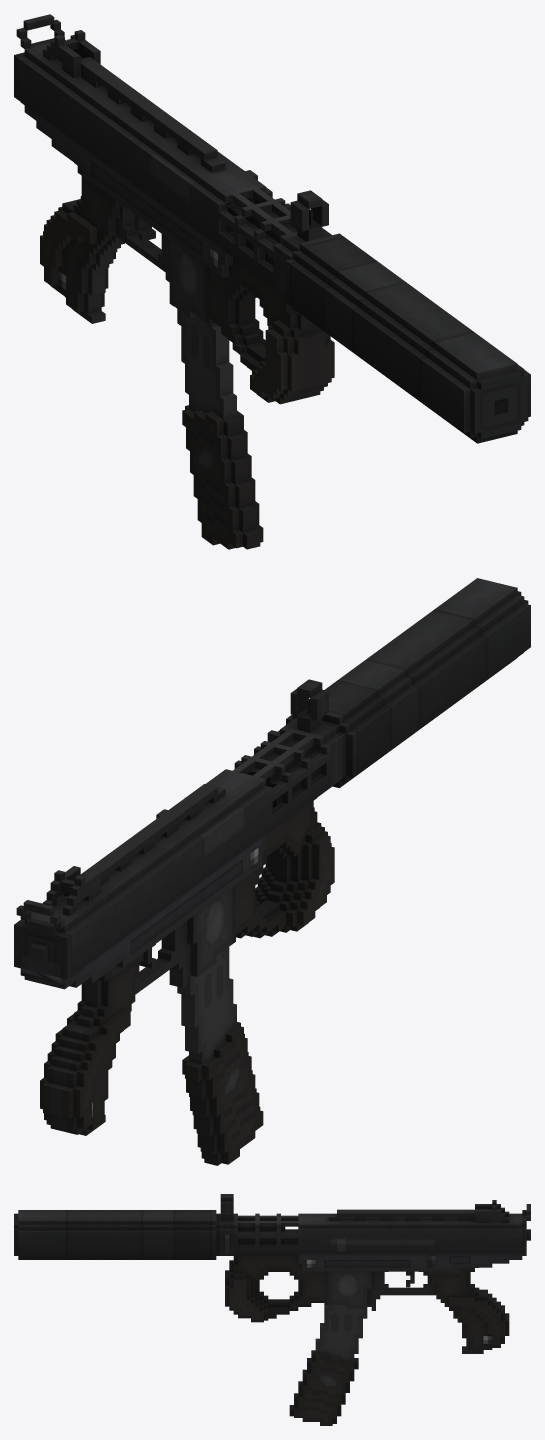
The model's file is RD_AGRAM2000.glb.
3 renders of one model, top to bottom at view 1: azimuth 30°, elevation 25°; view 2: azimuth 150°, elevation 25°; view 3: azimuth 270°, elevation 25°, orthographic. The views are drawn at different scales.
Visible parts, largest first — view 1: AGRAM2000, AGRAM2000_SILENCER, AGRAM2000_CLIP; view 2: AGRAM2000, AGRAM2000_SILENCER, AGRAM2000_CLIP; view 3: AGRAM2000, AGRAM2000_SILENCER, AGRAM2000_CLIP.
Part boxes in pixels (box(x1,y1,x2,y2)): AGRAM2000: box(14, 14, 334, 404); AGRAM2000_SILENCER: box(245, 211, 530, 443); AGRAM2000_CLIP: box(177, 309, 263, 549); AGRAM2000: box(14, 679, 342, 1135); AGRAM2000_SILENCER: box(246, 578, 530, 808); AGRAM2000_CLIP: box(177, 947, 263, 1165); AGRAM2000: box(220, 1194, 530, 1353); AGRAM2000_SILENCER: box(14, 1210, 285, 1259); AGRAM2000_CLIP: box(289, 1305, 367, 1425).
Bounding box in the file's own units: 0.1181 × 0.5709 × 1.18.
Materials: 1 (1 with a texture image).
